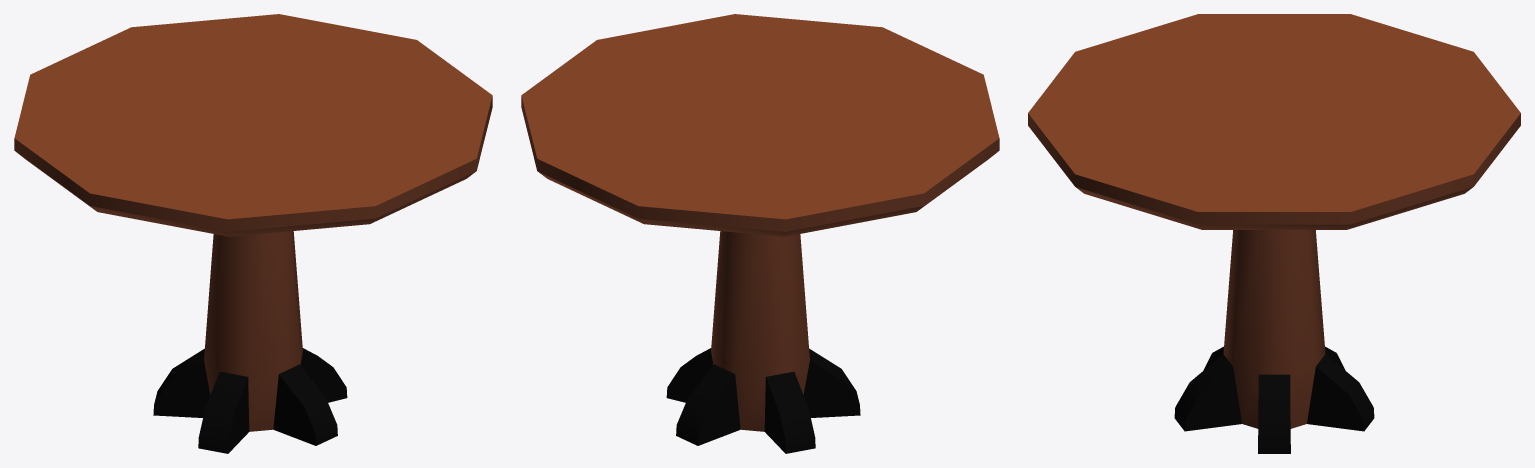
Rendered from BarTafelRond.fbx.
3 renders of one model, left to right at view 1: azimuth 30°, elevation 25°; view 2: azimuth 150°, elevation 25°; view 3: azimuth 270°, elevation 25°, orthographic.
Visible parts, largest first — view 1: BarTafel; view 2: BarTafel; view 3: BarTafel.
Part boxes in pixels (left/top/right/bottom): BarTafel: left=14, top=14, right=492, bottom=453; BarTafel: left=521, top=14, right=999, bottom=453; BarTafel: left=1028, top=14, right=1520, bottom=453.
Size of the model in its own units: 1.38 by 0.977 by 1.45.
